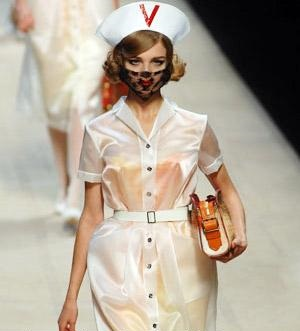face_mask: (123, 40, 166, 95)
